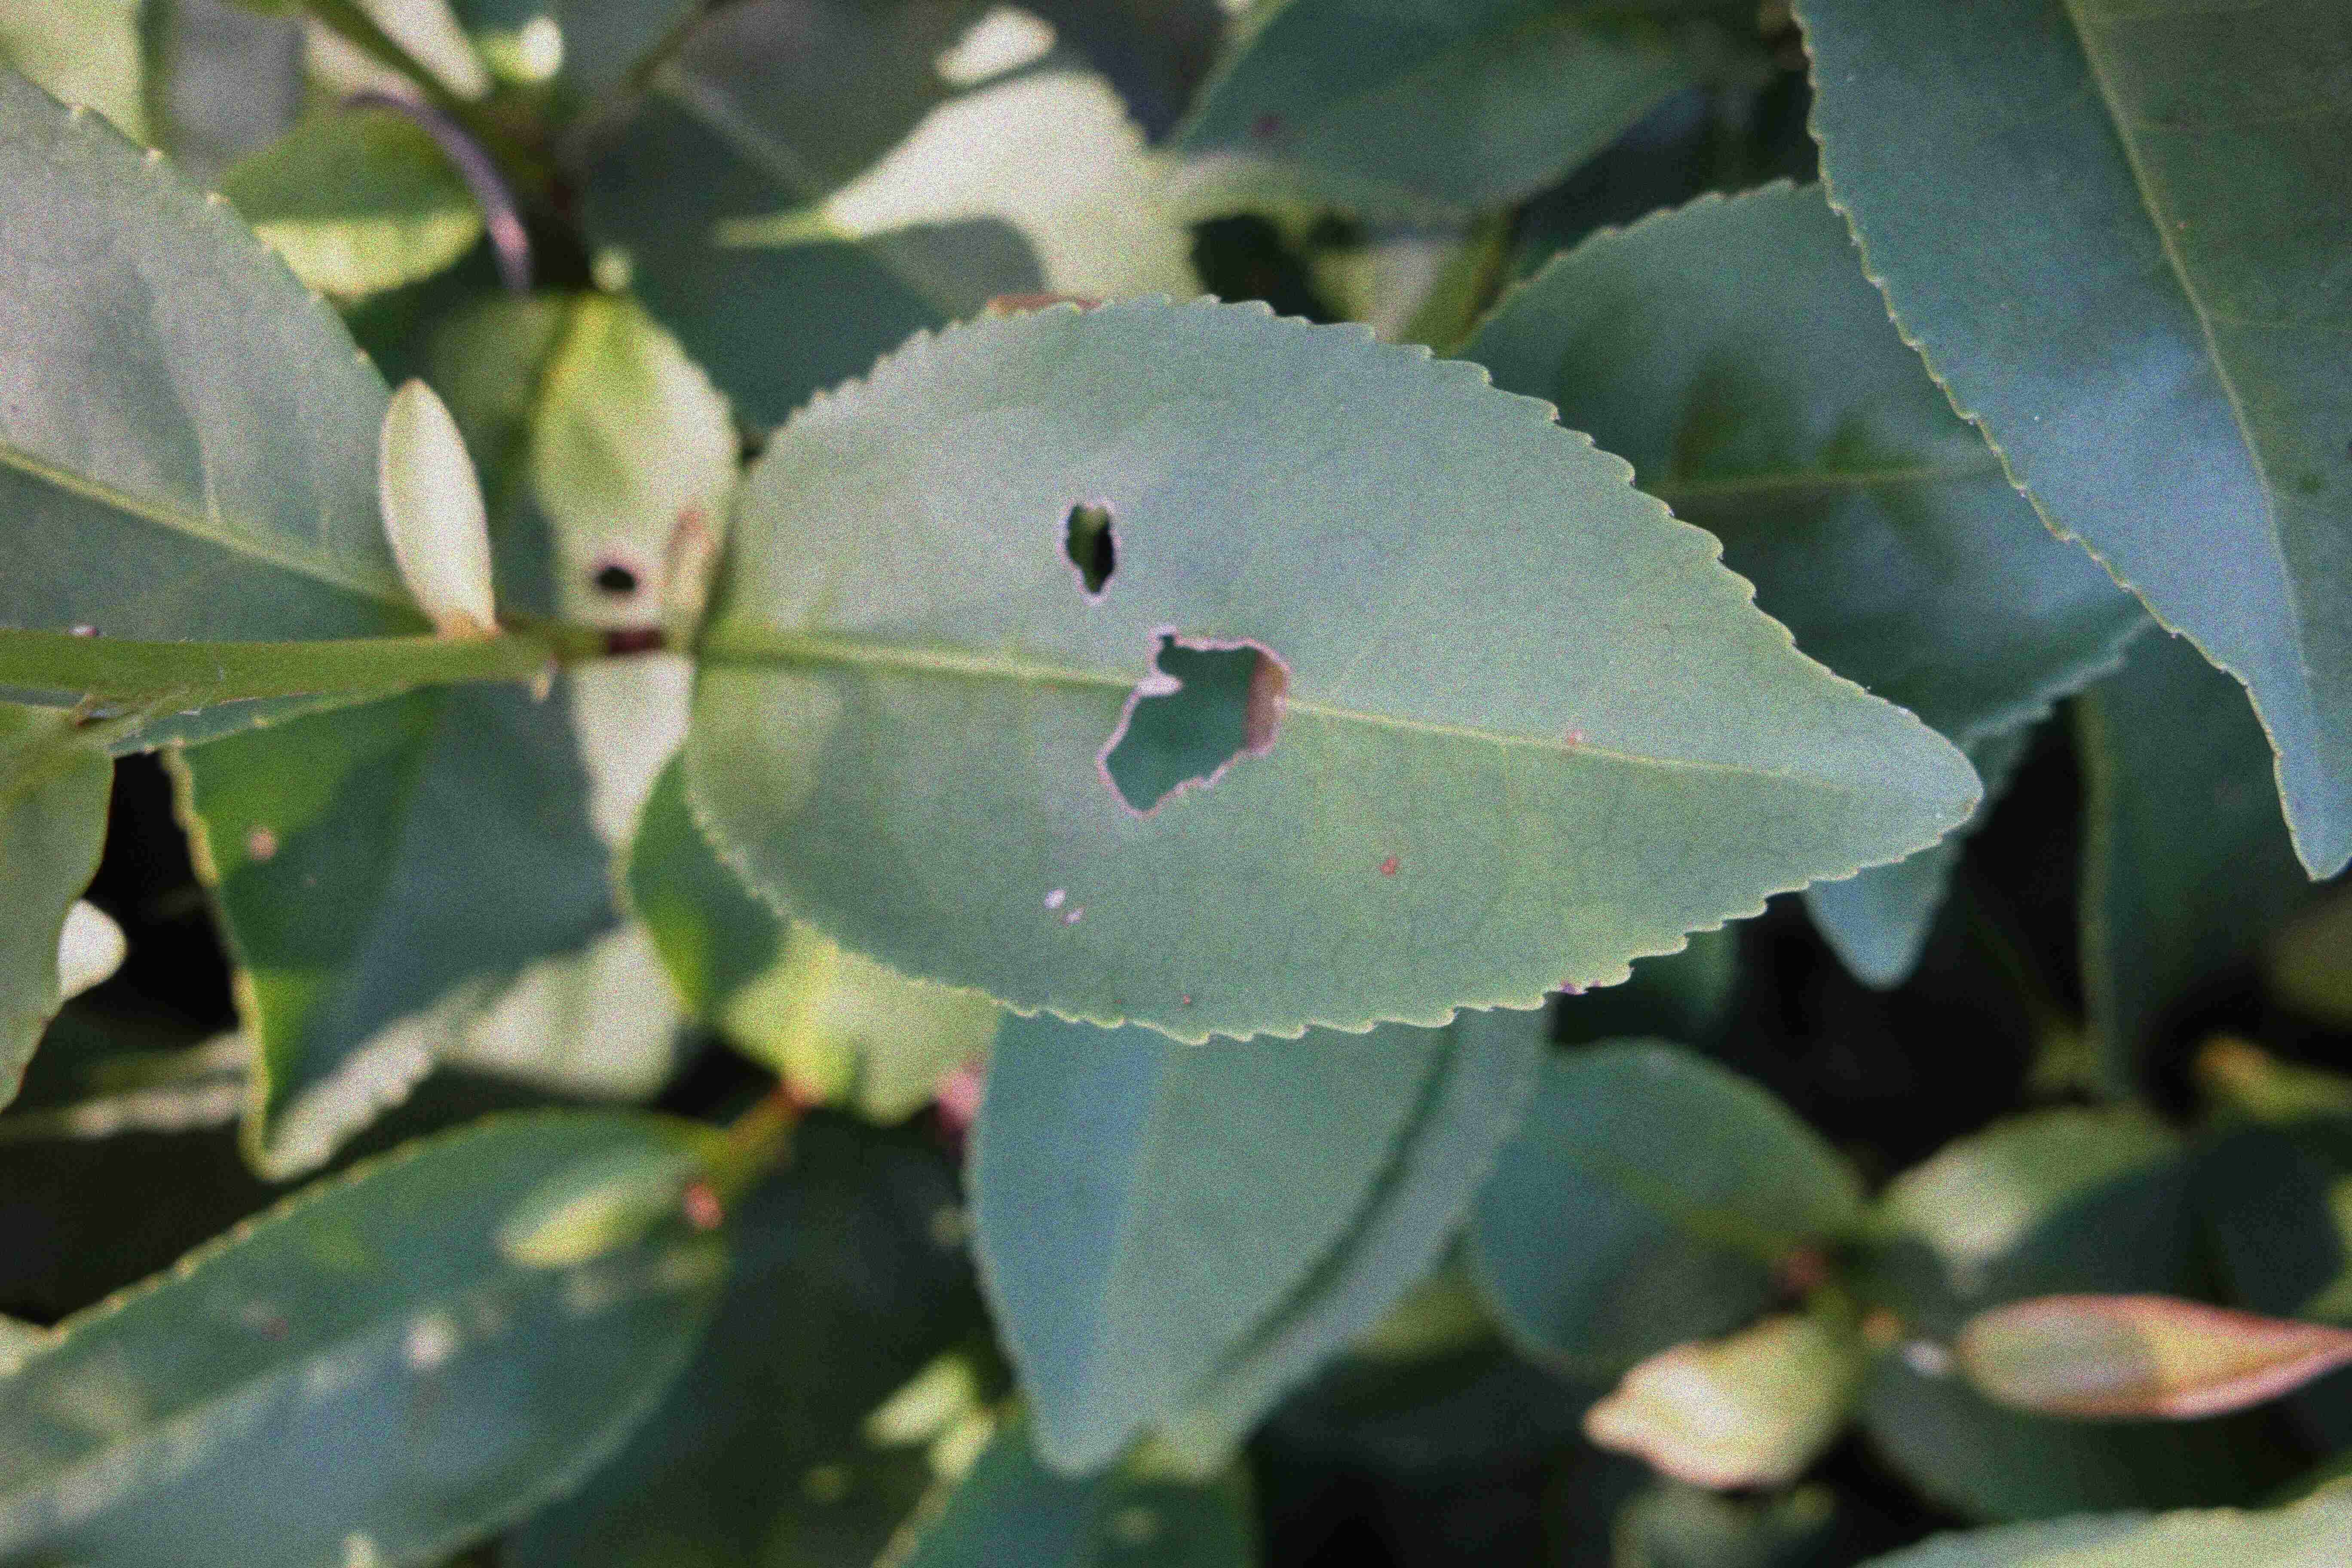chihuo_high: (674, 292, 1984, 1050)
tanju_low: (1962, 1293, 2347, 1419)
